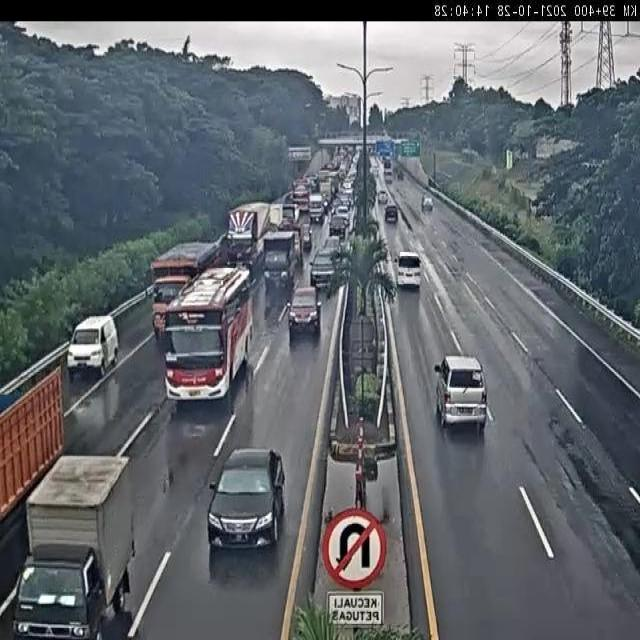Bus: (161, 262, 255, 402), (291, 179, 311, 217)
Car: (206, 447, 284, 551), (287, 284, 322, 344), (309, 242, 340, 290), (337, 191, 353, 212), (334, 204, 350, 224), (341, 180, 354, 201), (384, 204, 398, 223), (422, 196, 434, 212), (378, 190, 388, 204)
Truck: (12, 453, 135, 639), (147, 241, 221, 348), (226, 201, 277, 276), (261, 229, 300, 299)
Van: (433, 355, 488, 432), (68, 314, 120, 380), (396, 250, 422, 288)
